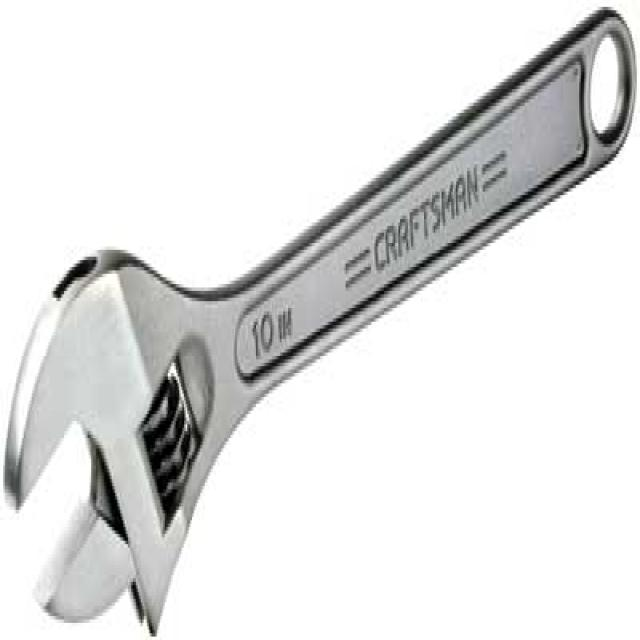wrench: (0, 27, 629, 640)
